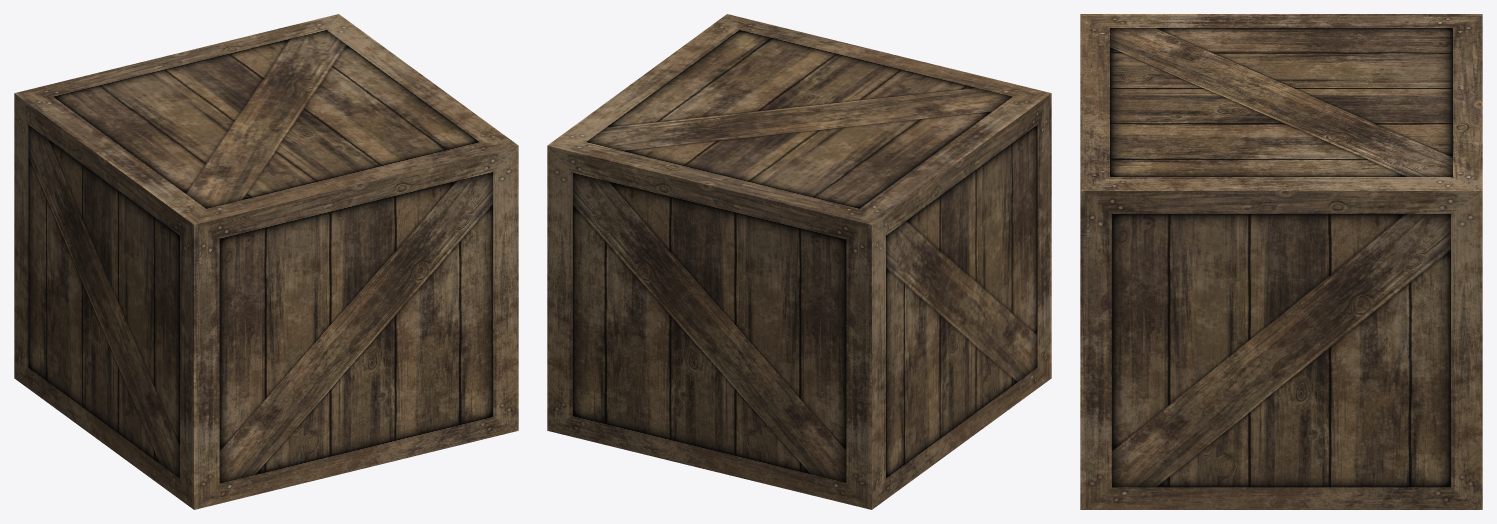
3 views of the same model, side by side, from view 1: azimuth 30°, elevation 25°; view 2: azimuth 150°, elevation 25°; view 3: azimuth 270°, elevation 25° (orthographic). The views are drawn at different scales.
Parts seen in each view (by area): view 1: pCube1; view 2: pCube1; view 3: pCube1.
Boxes of the visible parts, x1,y1,x2,y2 form: pCube1: [14, 14, 518, 509]; pCube1: [547, 14, 1051, 509]; pCube1: [1080, 14, 1482, 509].
Size of the model in its own units: 0.9083 by 0.7623 by 0.8717.
1 material, 1 textured.
